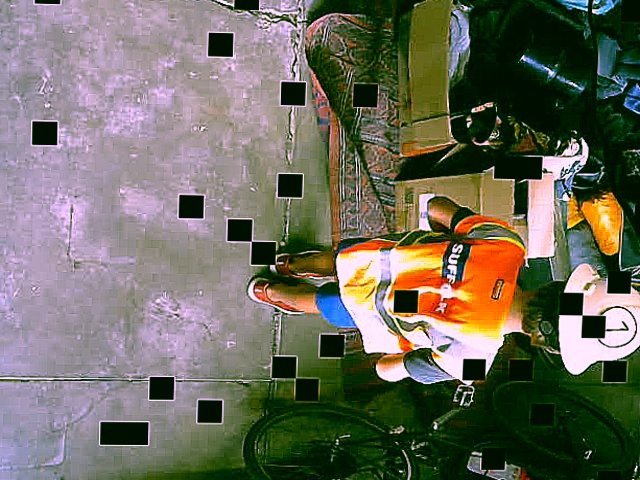one: (593, 306, 637, 347)
